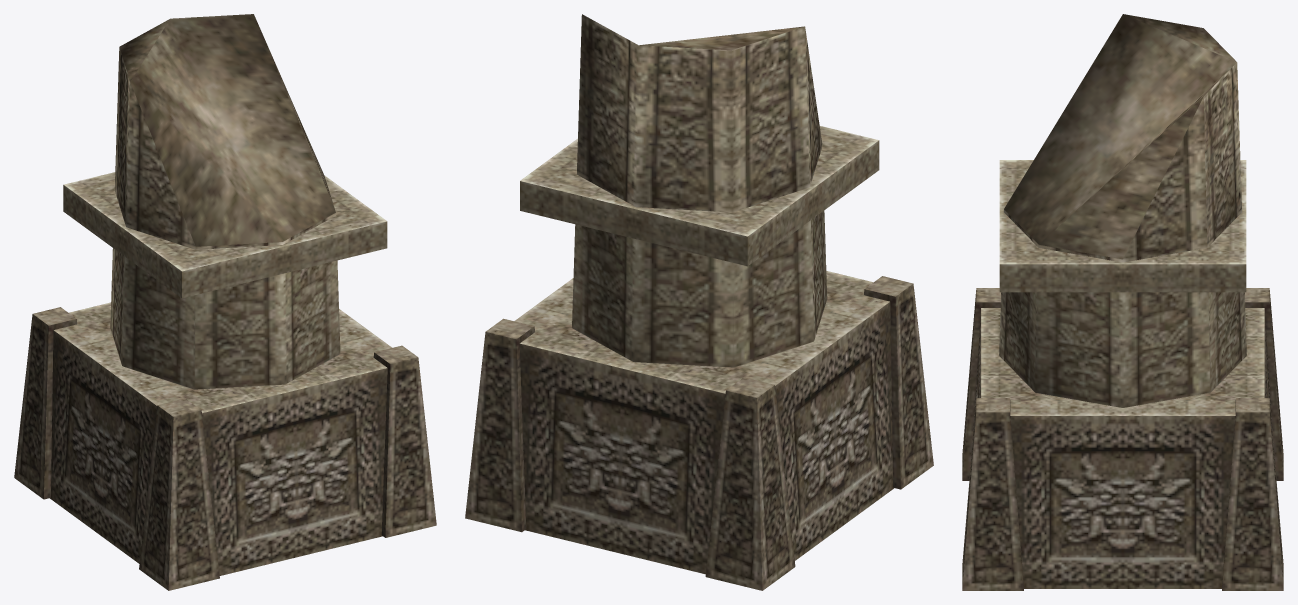
The model's file is general_obj_bigtoewr06.glb.
3 views of the same model, side by side, from view 1: azimuth 30°, elevation 25°; view 2: azimuth 150°, elevation 25°; view 3: azimuth 270°, elevation 25° (orthographic). The views are drawn at different scales.
Parts seen in each view (by area): view 1: Sphere01; view 2: Sphere01; view 3: Sphere01.
Boxes of the visible parts, box(x1,y1,x2,y2) form: Sphere01: box(14, 14, 436, 590); Sphere01: box(465, 14, 933, 590); Sphere01: box(962, 14, 1283, 590).
Bounding box in the file's own units: 5.22 × 8.26 × 5.21.
Materials: 1 (1 with a texture image).
